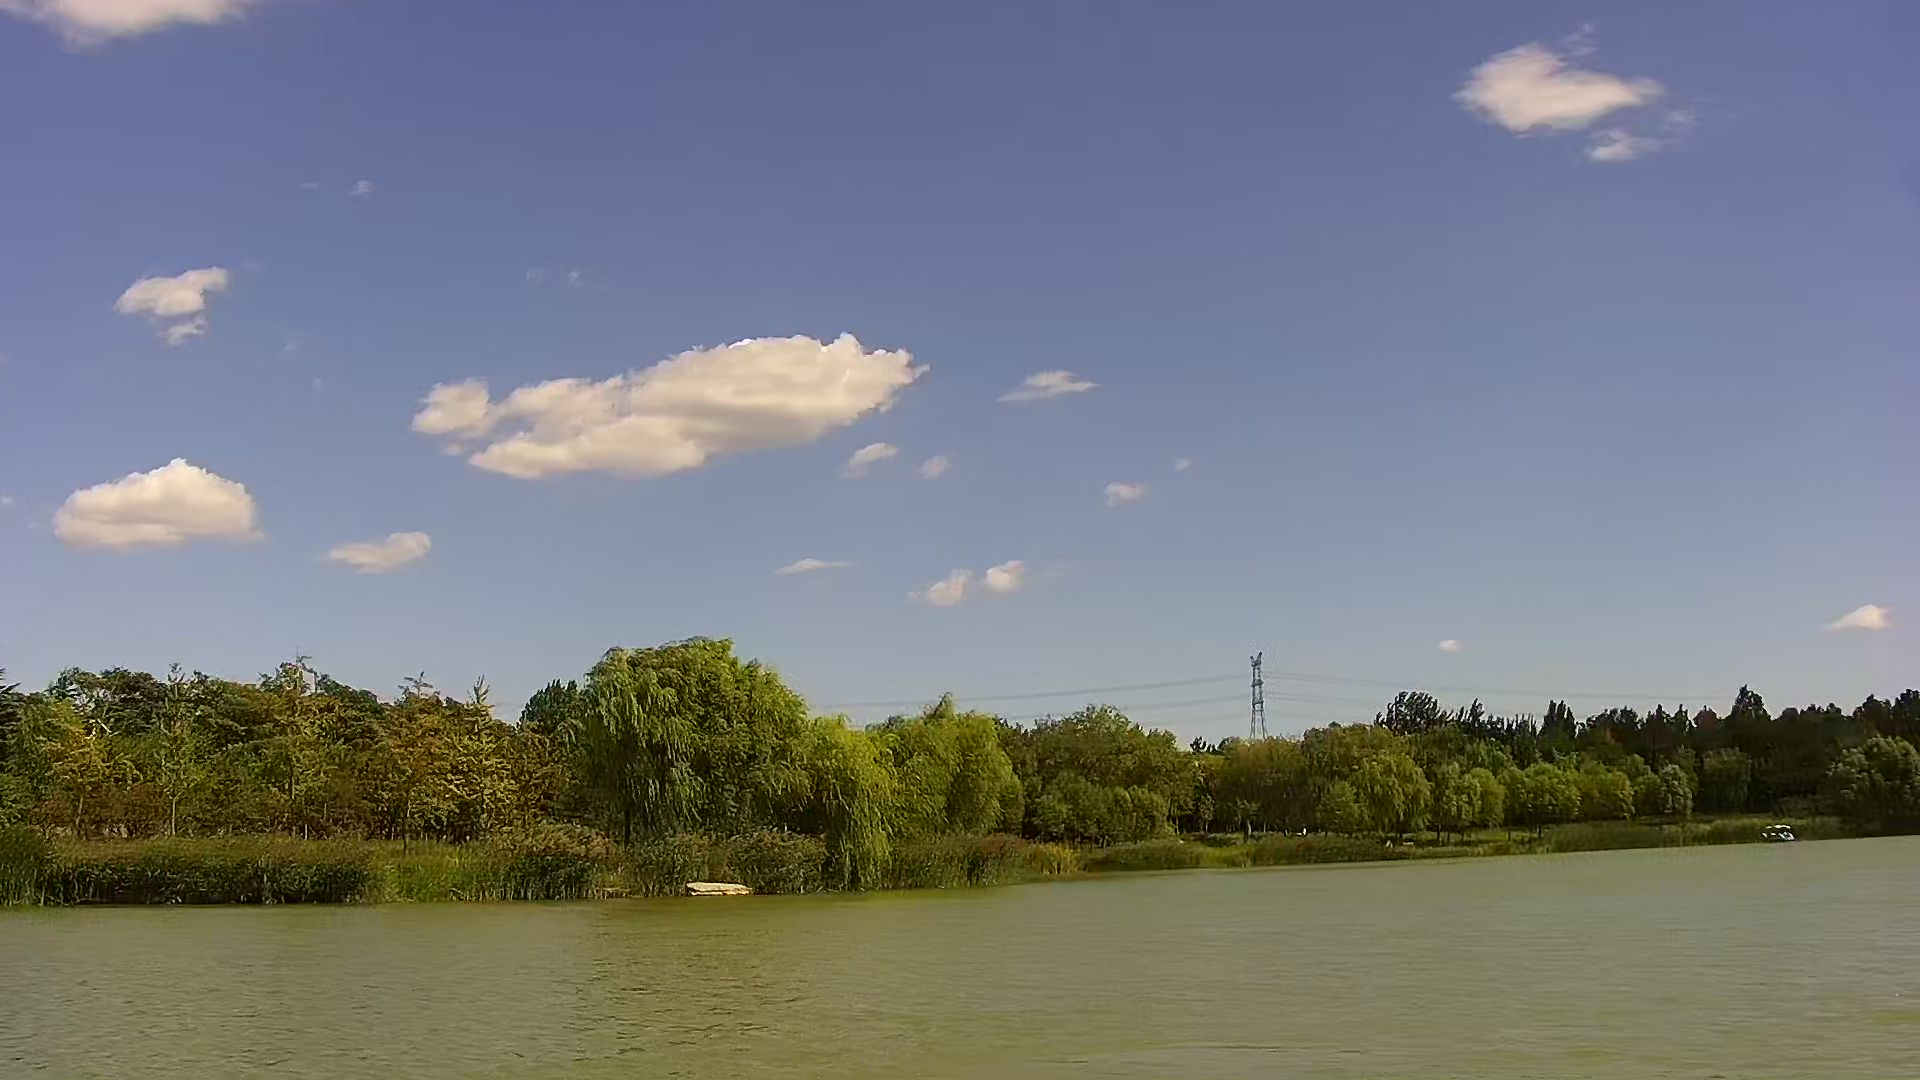boat: (1762, 822, 1799, 845)
